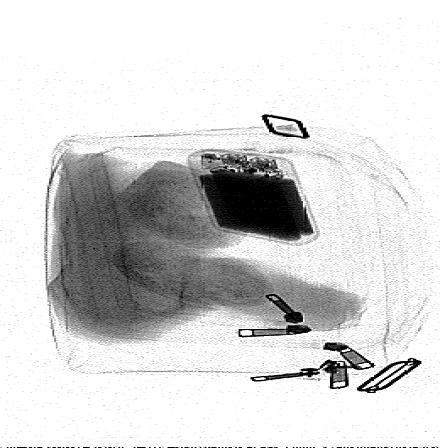Powerbank: (186, 147, 323, 246)
